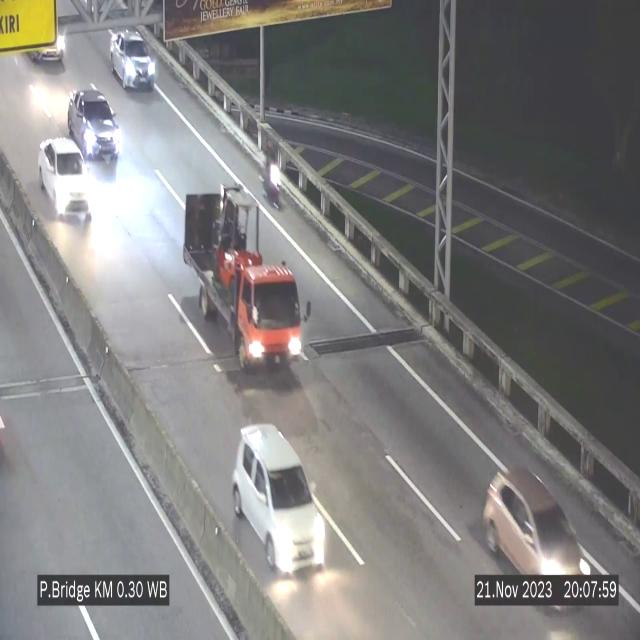Car: (466, 450, 595, 618), (232, 425, 326, 571), (39, 138, 92, 225), (68, 88, 120, 160), (110, 29, 155, 88)
Motorcycle: (258, 132, 286, 207)
Truck: (183, 186, 305, 382)
